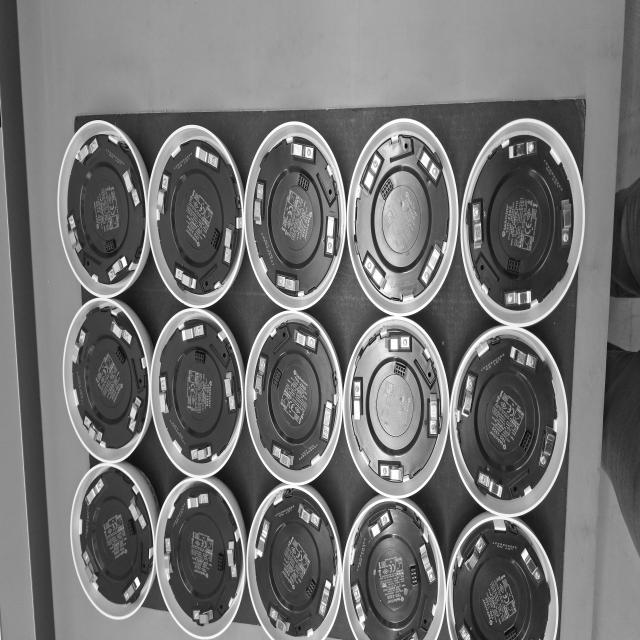yayli: (457, 368, 481, 424), (517, 544, 546, 588), (359, 251, 388, 295), (412, 143, 444, 182), (465, 197, 486, 256), (419, 236, 441, 292), (361, 148, 382, 205), (474, 466, 506, 502), (536, 418, 557, 471), (500, 134, 539, 162), (274, 266, 306, 300), (290, 321, 320, 357), (556, 195, 575, 249), (348, 373, 366, 430), (316, 393, 334, 450), (287, 137, 321, 167), (362, 508, 392, 542), (423, 389, 443, 440), (169, 260, 198, 295), (72, 132, 100, 168), (374, 459, 411, 486), (193, 143, 223, 176), (507, 343, 540, 373), (418, 540, 437, 592), (463, 534, 487, 574), (382, 330, 415, 359), (251, 353, 269, 406), (498, 286, 537, 310), (296, 498, 322, 532), (66, 208, 84, 257), (72, 322, 91, 368), (252, 176, 268, 230), (125, 394, 144, 439), (106, 318, 136, 346), (268, 442, 296, 472), (351, 582, 369, 628), (122, 163, 140, 209), (82, 476, 106, 510), (155, 172, 172, 219), (82, 411, 105, 445), (254, 520, 274, 559), (269, 604, 293, 636), (157, 370, 172, 420), (121, 570, 142, 605), (176, 320, 207, 343), (189, 440, 216, 466), (224, 369, 238, 418), (226, 535, 238, 589), (82, 550, 99, 588), (192, 601, 214, 630), (318, 578, 332, 623), (183, 490, 210, 513), (162, 530, 174, 581), (108, 254, 129, 283), (222, 222, 235, 268), (325, 210, 337, 259), (129, 497, 144, 525)
